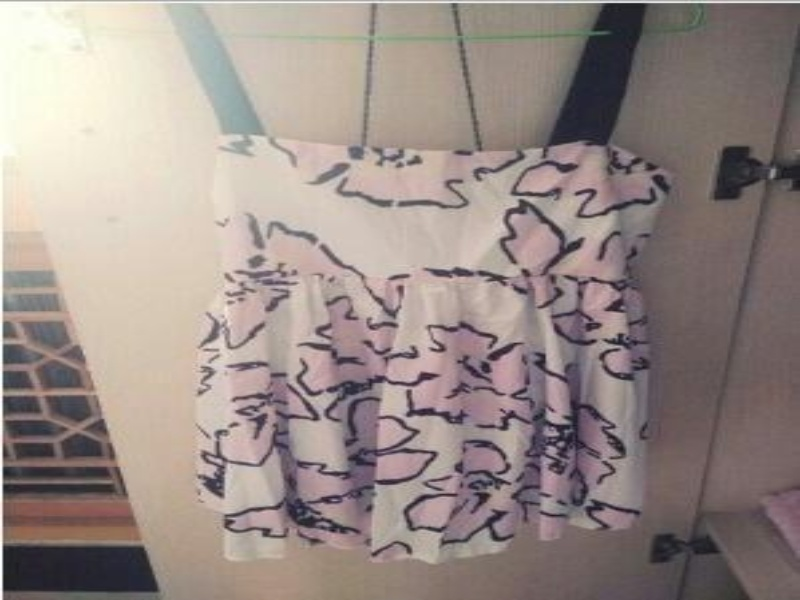sling_dress: (161, 3, 674, 566)
